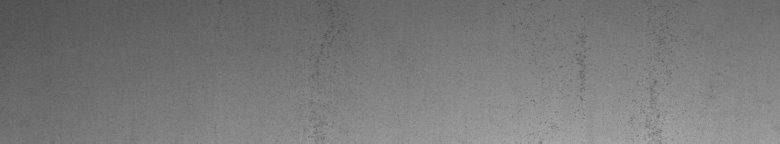ib: (526, 33, 667, 132)
